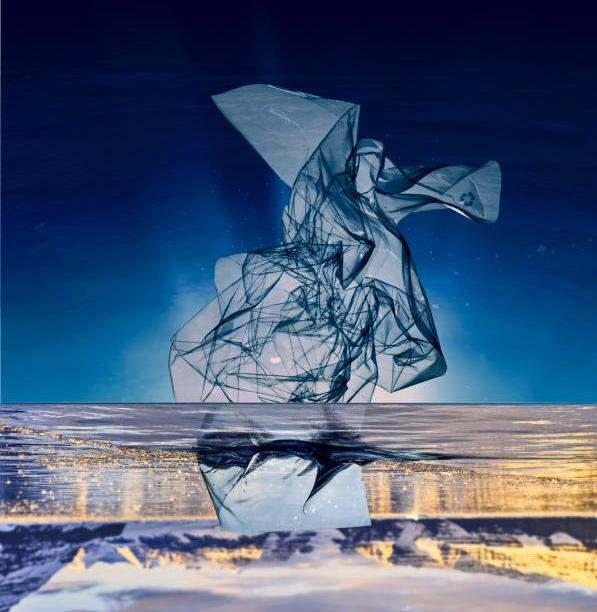Trash: (170, 59, 523, 397), (210, 434, 373, 540)
